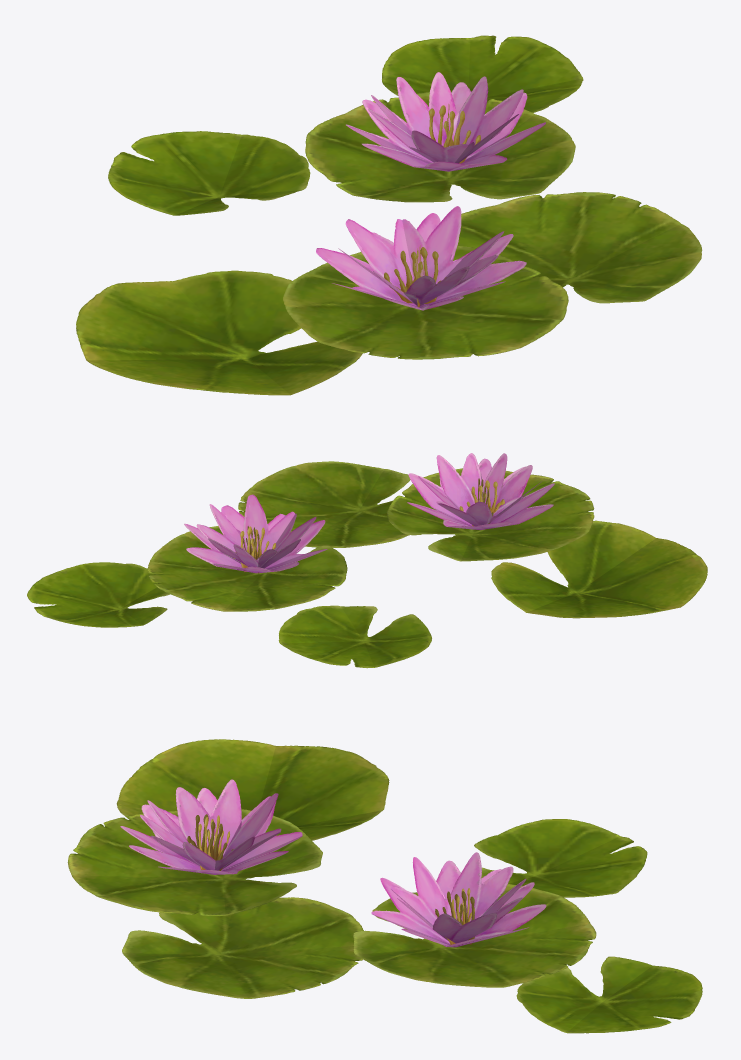
The model's file is SC_SLtree12.FBX.
The picture shows the model from 3 angles, top to bottom: view 1: azimuth 30°, elevation 25°; view 2: azimuth 150°, elevation 25°; view 3: azimuth 270°, elevation 25°; orthographic projection. The views are drawn at different scales.
Parts seen in each view (by area): view 1: SC_SLtree12; view 2: SC_SLtree12; view 3: SC_SLtree12.
Part boxes in pixels (x1,y1,x2,y2): SC_SLtree12: [76, 35, 702, 395]; SC_SLtree12: [27, 453, 707, 668]; SC_SLtree12: [67, 739, 702, 1033].
Size of the model in its own units: 266 by 34.56 by 236.
